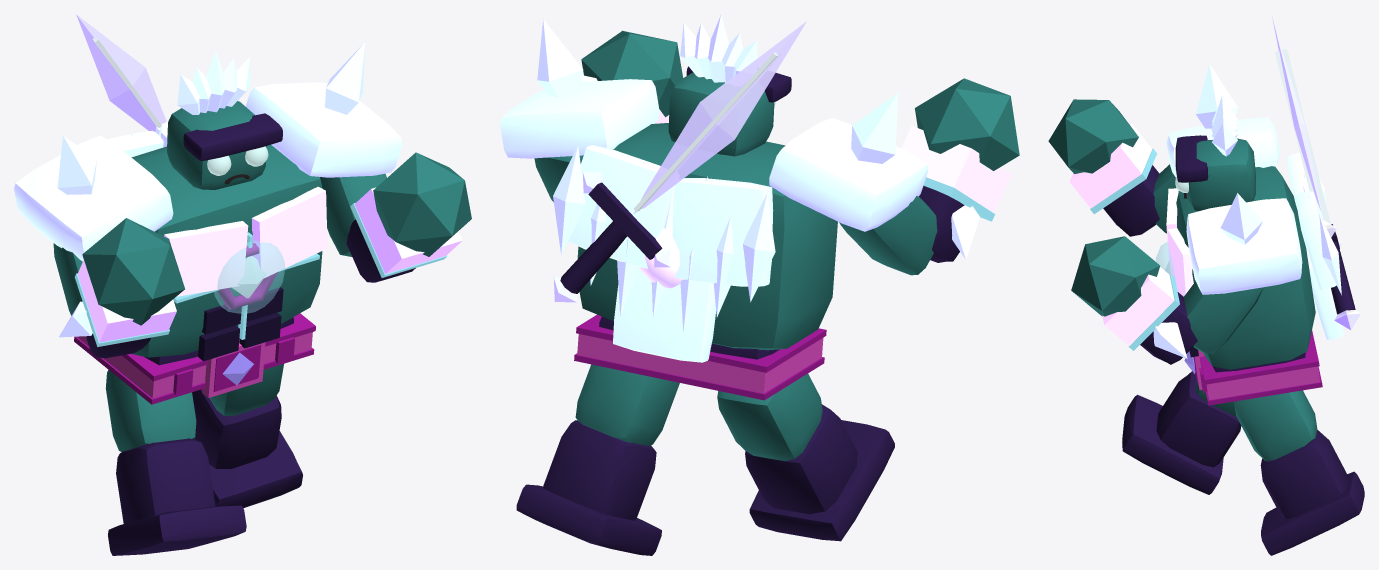
The model's file is crystal_alt2.glb.
3 renders of one model, left to right at view 1: azimuth 30°, elevation 25°; view 2: azimuth 150°, elevation 25°; view 3: azimuth 270°, elevation 25°, orthographic. The views are drawn at different scales.
Size of the model in its own units: 2.18 by 2.89 by 1.81.
